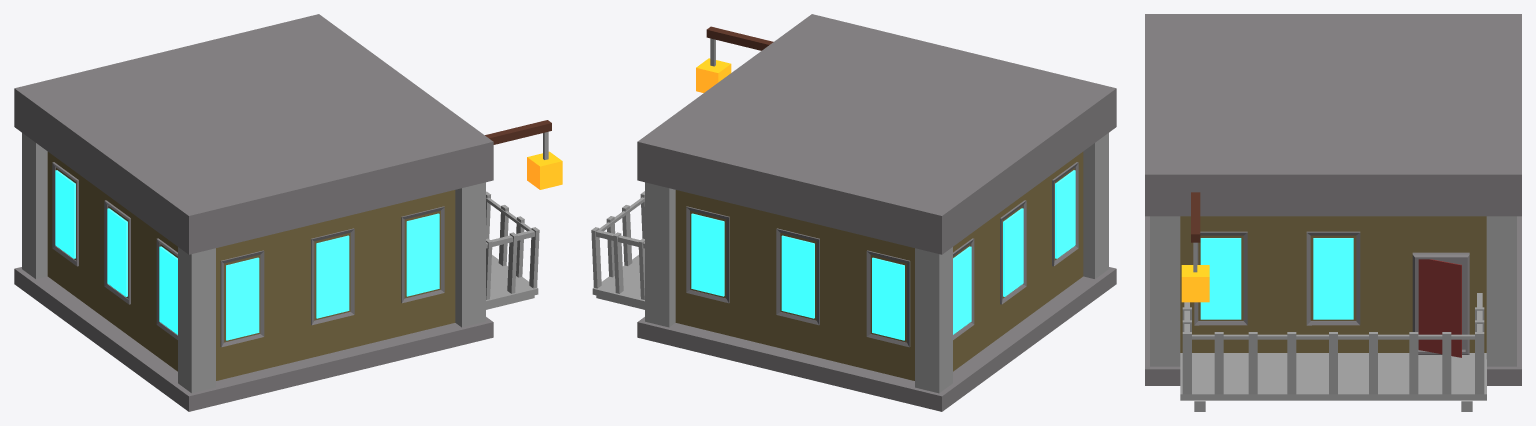
3 renders of one model, left to right at view 1: azimuth 30°, elevation 25°; view 2: azimuth 150°, elevation 25°; view 3: azimuth 270°, elevation 25°, orthographic. The views are drawn at different scales.
Visible parts, largest first — view 1: Cube.014, Cube.002, Cube.013, Cube.016, Cube.015, Cube.006, Cube.004, Cube.005, Cube.017, Cube.010, Cube.012, Cube.011 (+5 smaller); view 2: Cube.014, Cube.002, Cube.013, Cube.017, Cube.018, Cube.003, Cube.001, Cube, Cube.016, Cube.010, Cube.011, Cube.012 (+5 smaller); view 3: Cube.014, Cube.002, Cube.008, Cube.009, Cube.015, Cube.018, Cube.007, Cube.022, Cube.013, Cube.021, Cube.025, Cube.042 (+10 smaller).
Part boxes in pixels (x1=…): Cube.014: x1=14, y1=14, x2=493, y2=254; Cube.002: x1=47, y1=152, x2=455, y2=380; Cube.013: x1=14, y1=267, x2=493, y2=411; Cube.016: x1=178, y1=247, x2=215, y2=393; Cube.015: x1=455, y1=182, x2=485, y2=327; Cube.006: x1=220, y1=250, x2=264, y2=347; Cube.004: x1=311, y1=228, x2=354, y2=325; Cube.005: x1=401, y1=206, x2=444, y2=303; Cube.017: x1=22, y1=133, x2=47, y2=279; Cube.010: x1=104, y1=200, x2=130, y2=304; Cube.012: x1=52, y1=162, x2=78, y2=266; Cube.011: x1=156, y1=238, x2=177, y2=339; Cube.014: x1=637, y1=14, x2=1116, y2=254; Cube.002: x1=675, y1=152, x2=1083, y2=380; Cube.013: x1=637, y1=267, x2=1116, y2=411; Cube.017: x1=915, y1=247, x2=952, y2=393; Cube.018: x1=645, y1=182, x2=675, y2=327; Cube.003: x1=776, y1=228, x2=819, y2=325; Cube.001: x1=866, y1=250, x2=910, y2=347; Cube: x1=686, y1=206, x2=729, y2=303; Cube.016: x1=1083, y1=133, x2=1108, y2=278; Cube.010: x1=1000, y1=200, x2=1026, y2=304; Cube.011: x1=1052, y1=162, x2=1078, y2=266; Cube.012: x1=953, y1=238, x2=974, y2=339; Cube.014: x1=1145, y1=14, x2=1521, y2=216; Cube.002: x1=1180, y1=216, x2=1486, y2=352; Cube.008: x1=1180, y1=353, x2=1486, y2=400; Cube.009: x1=1306, y1=231, x2=1360, y2=325; Cube.015: x1=1150, y1=216, x2=1180, y2=366; Cube.018: x1=1486, y1=216, x2=1516, y2=366; Cube.007: x1=1194, y1=231, x2=1247, y2=325; Cube.022: x1=1418, y1=259, x2=1461, y2=357; Cube.013: x1=1145, y1=216, x2=1521, y2=385; Cube.021: x1=1412, y1=252, x2=1469, y2=354; Cube.025: x1=1192, y1=334, x2=1474, y2=339; Cube.042: x1=1181, y1=265, x2=1209, y2=302.
Size of the model in its own units: 17.03 by 8.16 by 13.17.
